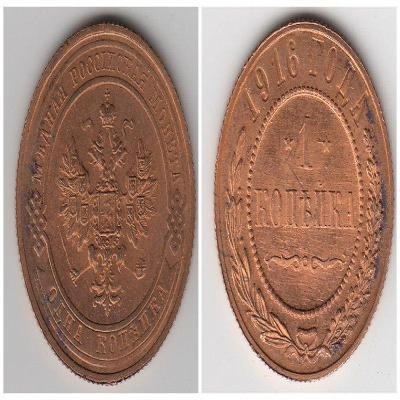numismatics: (16, 23, 195, 383), (215, 22, 394, 380)
